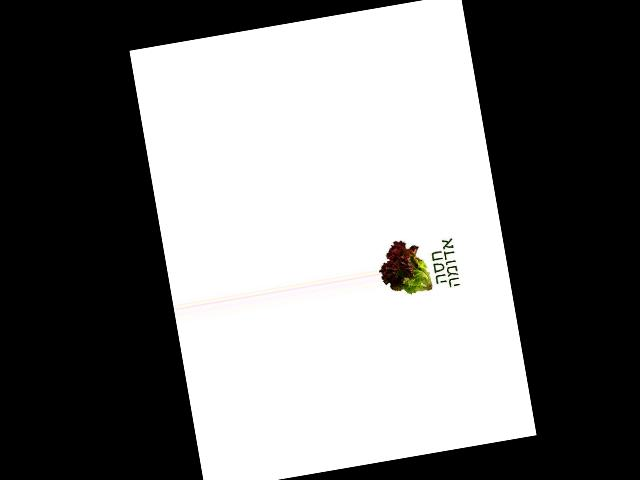lettuce: (374, 234, 435, 304)
